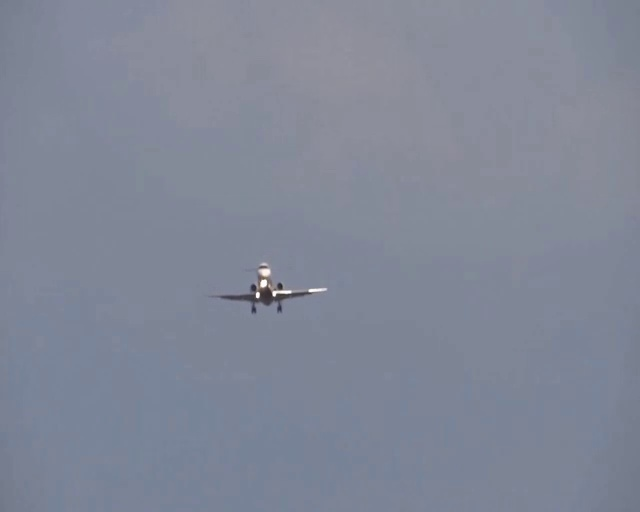AIRPLANE: (207, 262, 327, 314)
